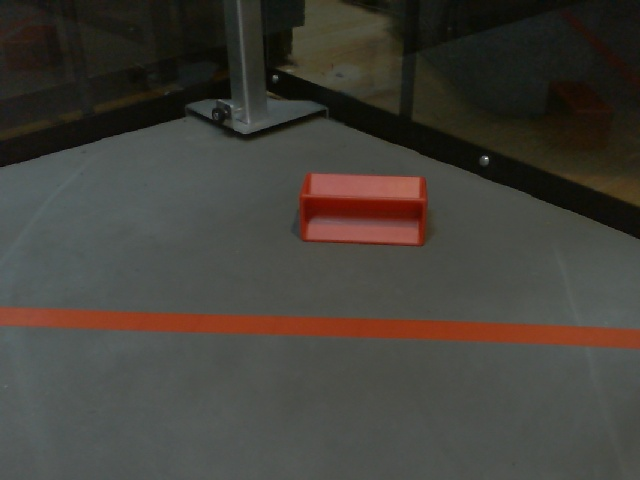RedSample: (298, 165, 431, 248)
